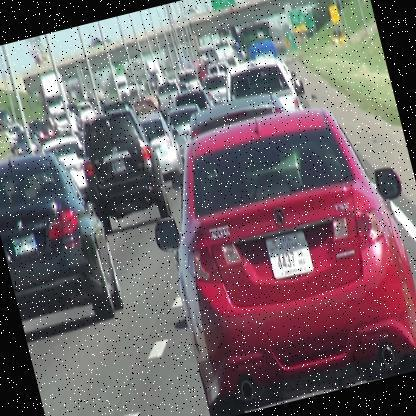License-Plate: (262, 222, 317, 284), (12, 231, 40, 259), (111, 158, 128, 176)
